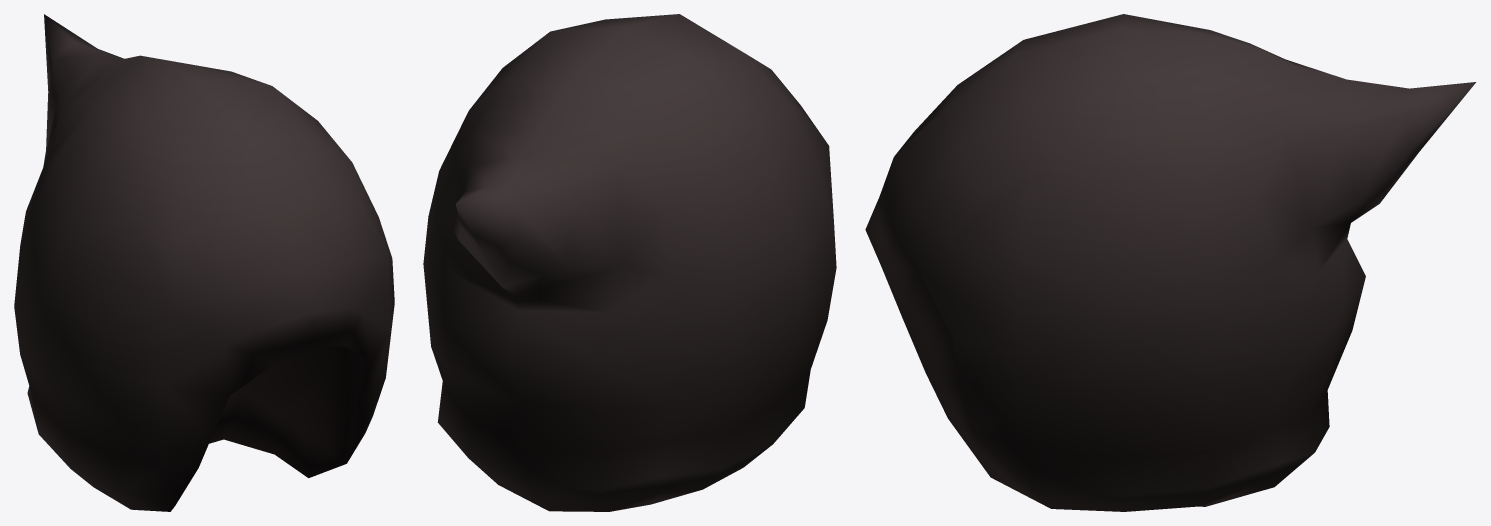
Rendered from Equip_Helm_14_1.FBX.
3 views of the same model, side by side, from view 1: azimuth 30°, elevation 25°; view 2: azimuth 150°, elevation 25°; view 3: azimuth 270°, elevation 25° (orthographic). The views are drawn at different scales.
Parts seen in each view (by area): view 1: Equip_Helm_14_1; view 2: Equip_Helm_14_1; view 3: Equip_Helm_14_1.
Part boxes in pixels (x1,y1,x2,y2): Equip_Helm_14_1: (14,14,394,511); Equip_Helm_14_1: (423,14,836,511); Equip_Helm_14_1: (865,14,1475,511).
Size of the model in its own units: 43.24 by 52.39 by 63.29.
